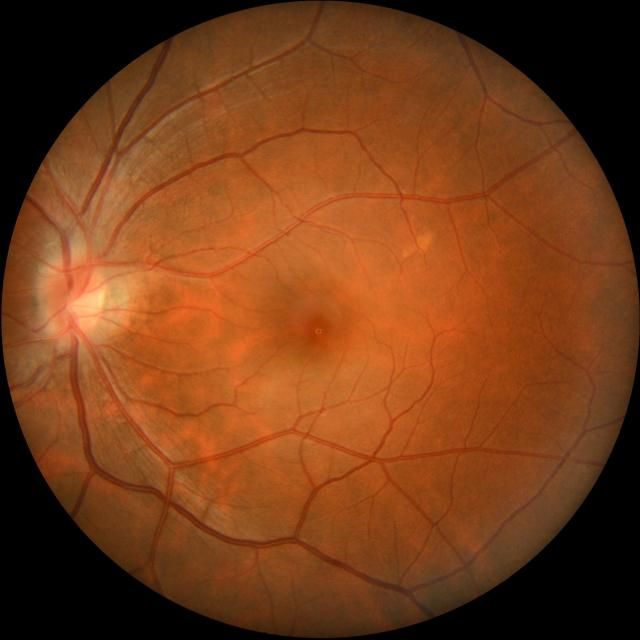OC: (64, 286, 96, 321)
OD: (44, 255, 104, 336)
